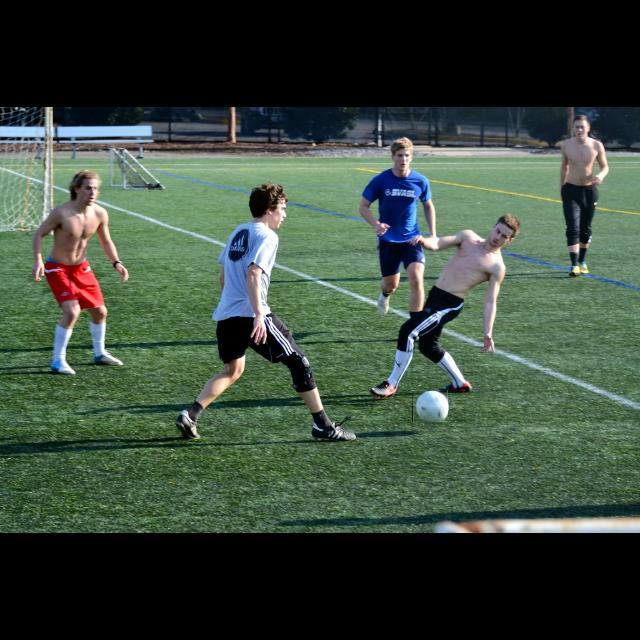Football: (412, 390, 448, 422)
